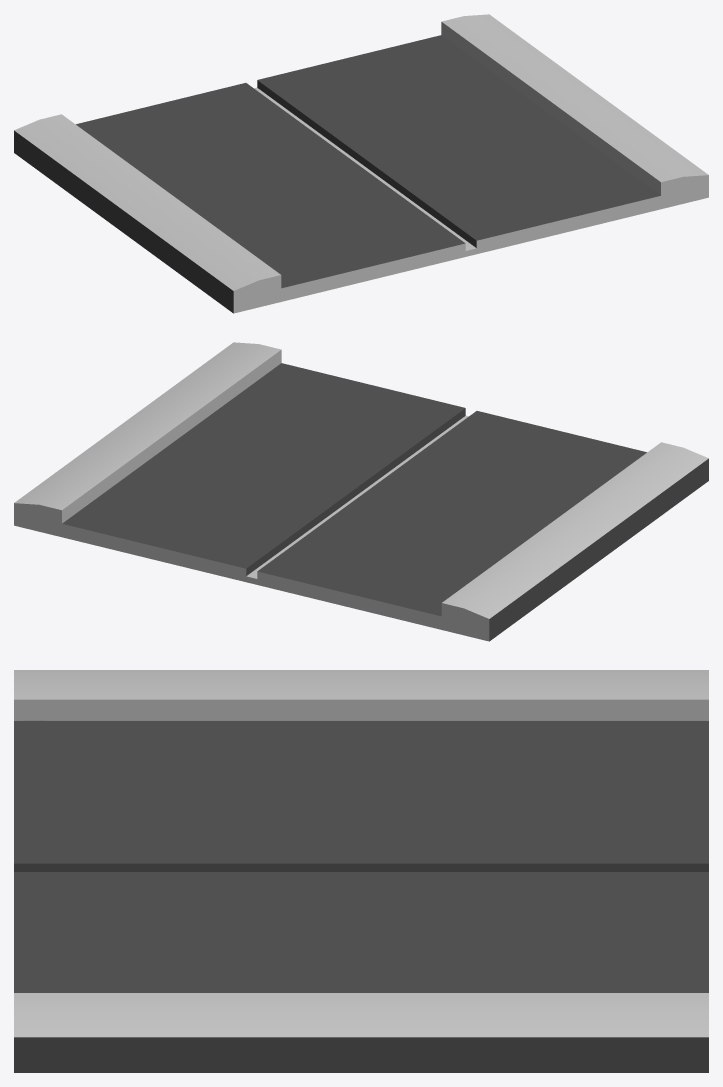
File: Movement_Track_Section.fbx
3 renders of one model, top to bottom at view 1: azimuth 30°, elevation 25°; view 2: azimuth 150°, elevation 25°; view 3: azimuth 270°, elevation 25°, orthographic. The views are drawn at different scales.
Parts seen in each view (by area): view 1: pCube2; view 2: pCube2; view 3: pCube2.
Boxes of the visible parts, left/top/right/bottom form: pCube2: left=14, top=14, right=708, bottom=313; pCube2: left=14, top=342, right=708, bottom=641; pCube2: left=14, top=670, right=708, bottom=1072.
Bounding box in the file's own units: 1.25 × 0.0679 × 1.
1 material, 1 textured.
